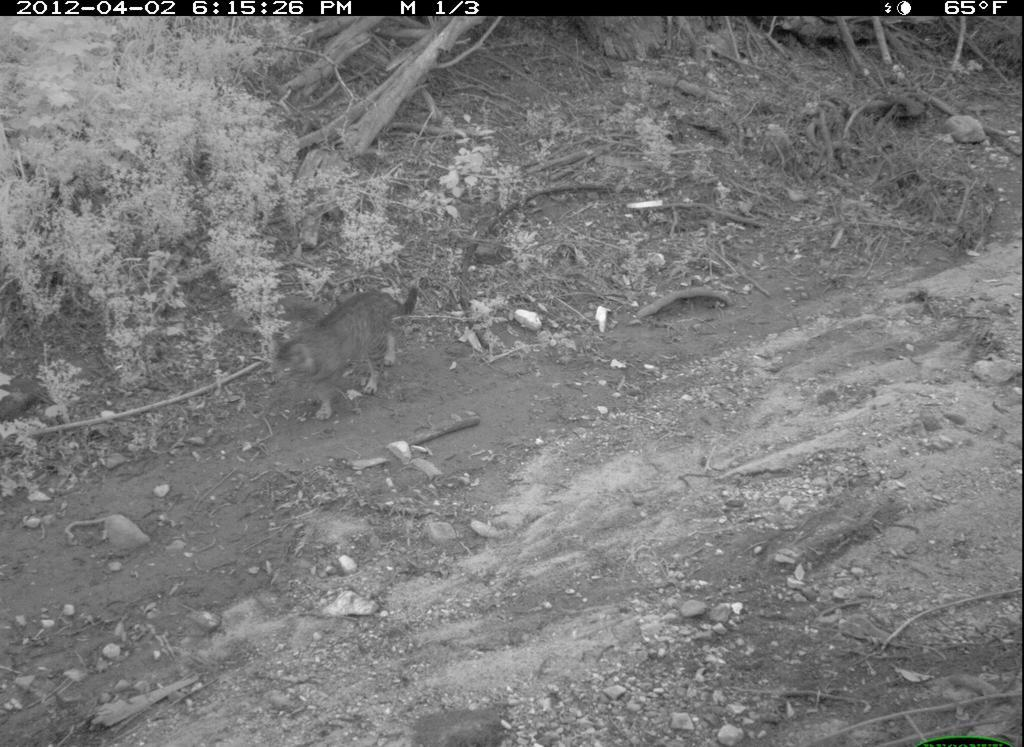cat: (269, 282, 428, 424)
